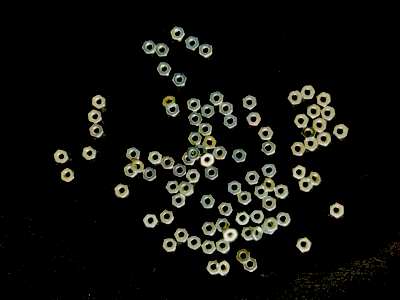nut: (329, 202, 345, 218), (333, 124, 349, 139), (296, 238, 312, 253), (316, 92, 331, 108), (287, 90, 303, 105), (236, 249, 251, 265), (218, 202, 234, 217), (200, 194, 216, 209), (114, 183, 129, 199), (92, 94, 107, 110), (321, 106, 336, 121), (317, 132, 332, 147), (242, 95, 257, 110), (262, 141, 277, 156), (274, 184, 289, 199), (276, 212, 291, 227), (264, 217, 279, 232), (216, 218, 231, 233), (163, 238, 178, 253), (155, 43, 170, 58), (186, 146, 201, 161), (178, 181, 193, 196), (160, 210, 175, 225), (148, 150, 163, 165), (126, 147, 141, 162), (293, 164, 307, 180), (238, 190, 252, 206), (232, 149, 248, 163), (216, 238, 230, 254), (217, 260, 231, 276), (202, 239, 216, 255), (205, 165, 219, 181), (201, 103, 215, 119), (54, 150, 70, 164), (313, 118, 327, 133), (301, 85, 316, 99), (307, 104, 321, 119), (294, 114, 309, 128), (301, 127, 316, 141), (291, 142, 306, 156), (307, 172, 322, 186), (247, 112, 262, 126), (262, 164, 277, 178), (263, 196, 277, 211), (262, 178, 276, 193), (236, 211, 250, 226), (244, 258, 258, 273), (228, 181, 242, 196), (219, 101, 233, 116), (210, 91, 224, 106), (223, 228, 238, 242), (202, 222, 217, 236), (174, 228, 189, 242), (213, 146, 228, 160), (185, 36, 199, 51), (172, 73, 187, 87), (157, 62, 172, 76), (187, 97, 201, 112), (189, 111, 203, 126), (199, 122, 213, 137), (202, 136, 217, 150), (188, 132, 203, 146), (173, 163, 187, 178), (172, 193, 186, 208), (143, 214, 158, 228), (143, 167, 157, 182), (88, 110, 103, 124), (90, 124, 105, 138), (82, 146, 97, 160), (258, 127, 274, 140), (299, 178, 313, 192), (255, 185, 269, 199), (251, 210, 265, 224), (246, 171, 260, 185), (143, 41, 157, 55), (163, 95, 177, 109), (201, 153, 215, 167), (182, 152, 196, 166), (186, 169, 200, 183), (161, 156, 175, 170), (124, 164, 138, 178), (251, 226, 264, 241), (224, 114, 237, 129), (188, 235, 201, 250), (200, 43, 213, 58), (172, 26, 185, 41), (193, 145, 208, 158), (130, 160, 145, 173), (62, 168, 75, 183), (262, 221, 275, 235), (166, 104, 180, 117), (166, 181, 180, 194), (207, 260, 219, 275), (305, 138, 318, 151), (242, 226, 253, 241), (184, 184, 194, 197)
